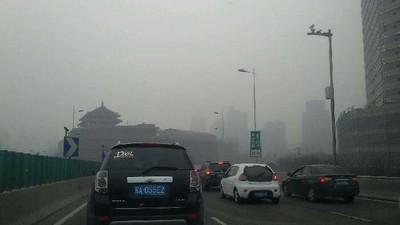car: (85, 140, 204, 224), (279, 163, 360, 204), (218, 162, 282, 204), (195, 160, 234, 193)
